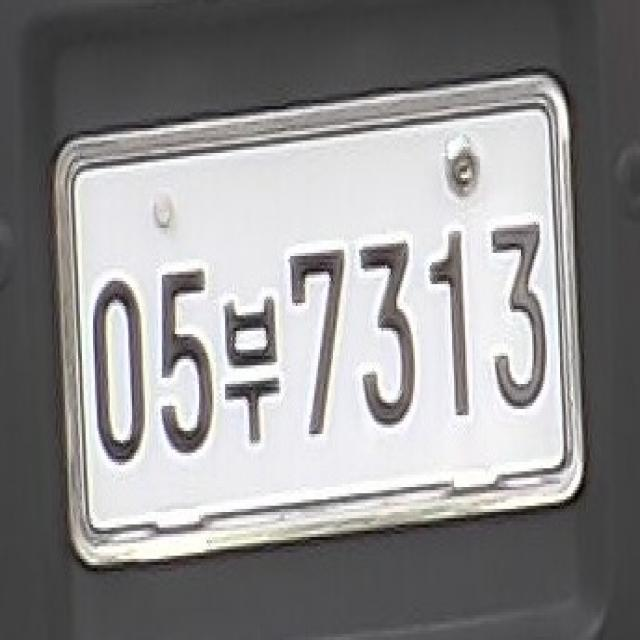0: (76, 268, 156, 478)
1: (412, 226, 490, 438)
3: (348, 235, 420, 442), (492, 222, 552, 432)
5: (158, 260, 229, 475)
7: (274, 246, 354, 448)
bu: (218, 297, 290, 455)
license_plate: (39, 48, 600, 591)
